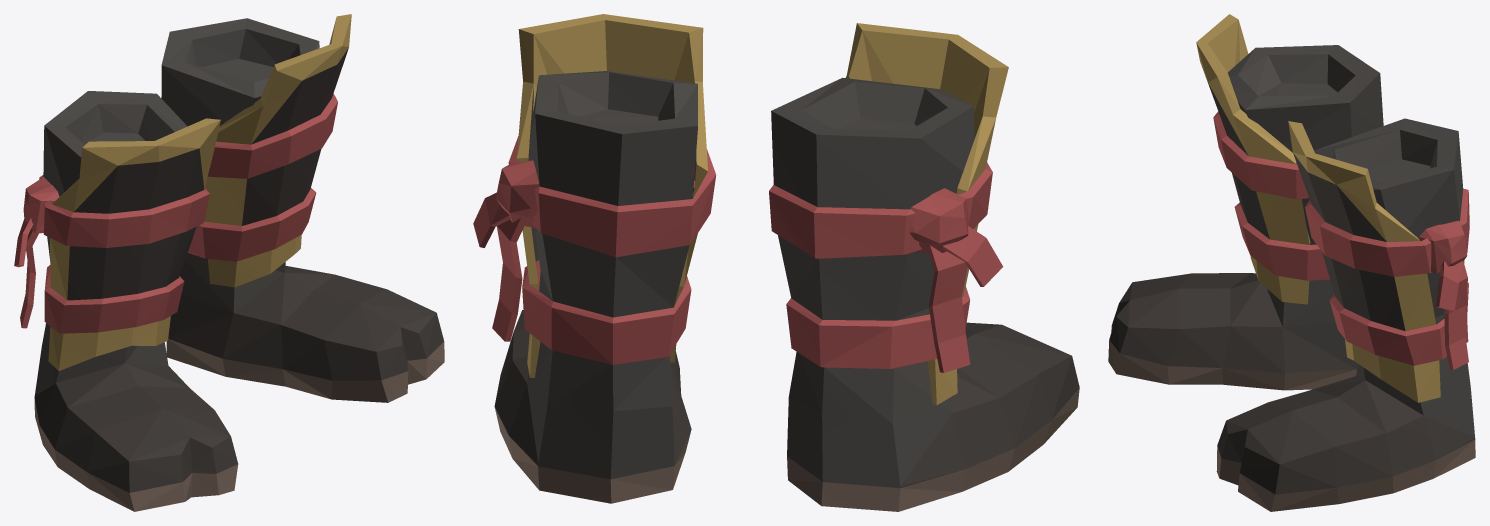
Rendered from bootsDragonDisplay.fbx.
The picture shows the model from 3 angles, left to right: view 1: azimuth 30°, elevation 25°; view 2: azimuth 150°, elevation 25°; view 3: azimuth 270°, elevation 25°; orthographic projection. The views are drawn at different scales.
Visible parts, largest first — view 1: bootsDragonDisplay; view 2: bootsDragonDisplay; view 3: bootsDragonDisplay.
Boxes of the visible parts, bbox=[...] form: bootsDragonDisplay: bbox=[14, 14, 444, 511]; bootsDragonDisplay: bbox=[473, 14, 1079, 511]; bootsDragonDisplay: bbox=[1108, 14, 1475, 511].
Size of the model in its own units: 1.65 by 1.24 by 1.3.
1 material, 1 textured.
